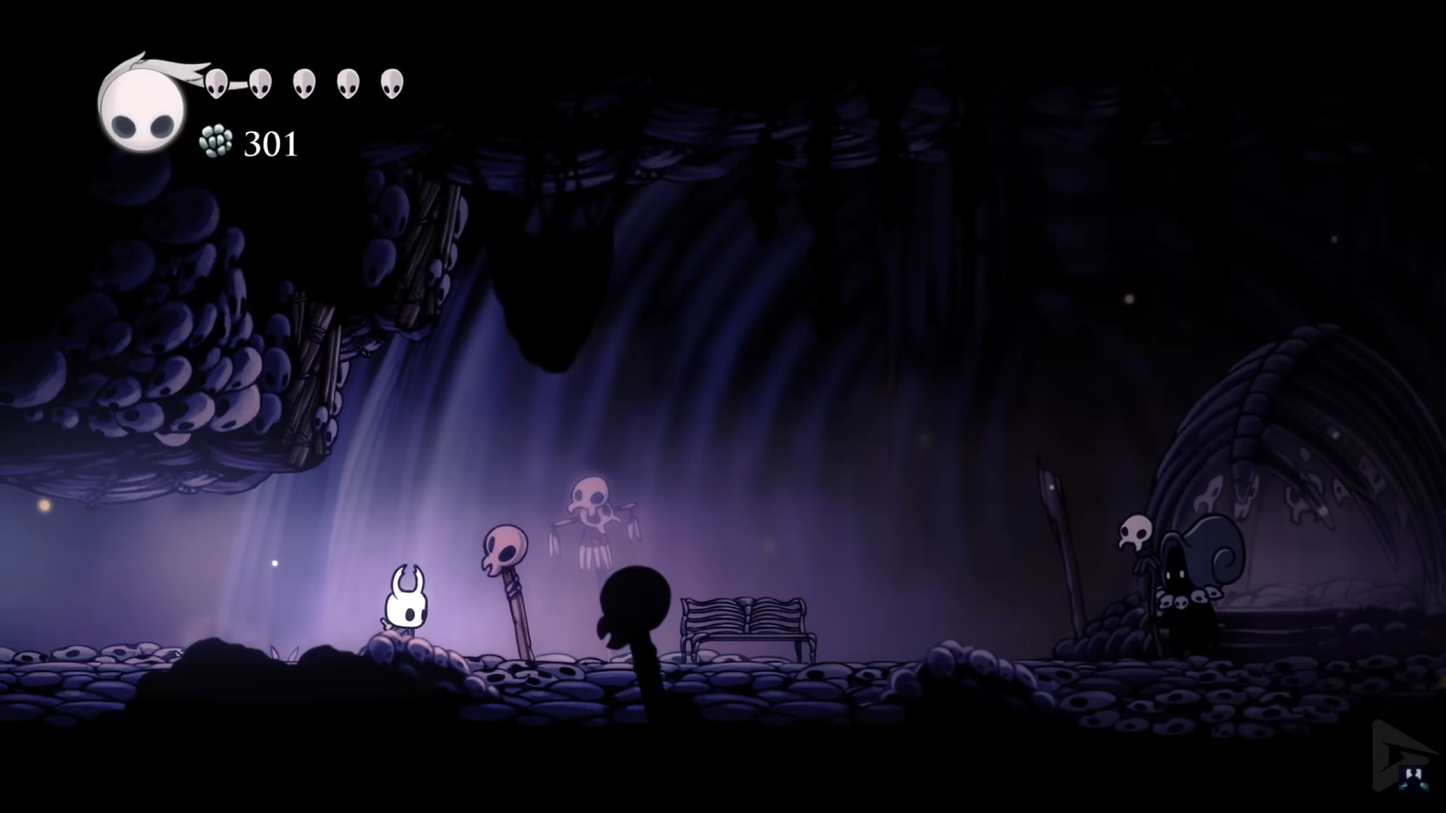HK: (374, 561, 435, 656)
